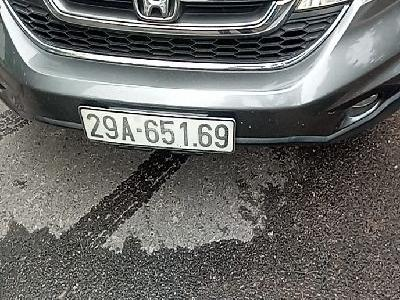car: (79, 106, 235, 156)
